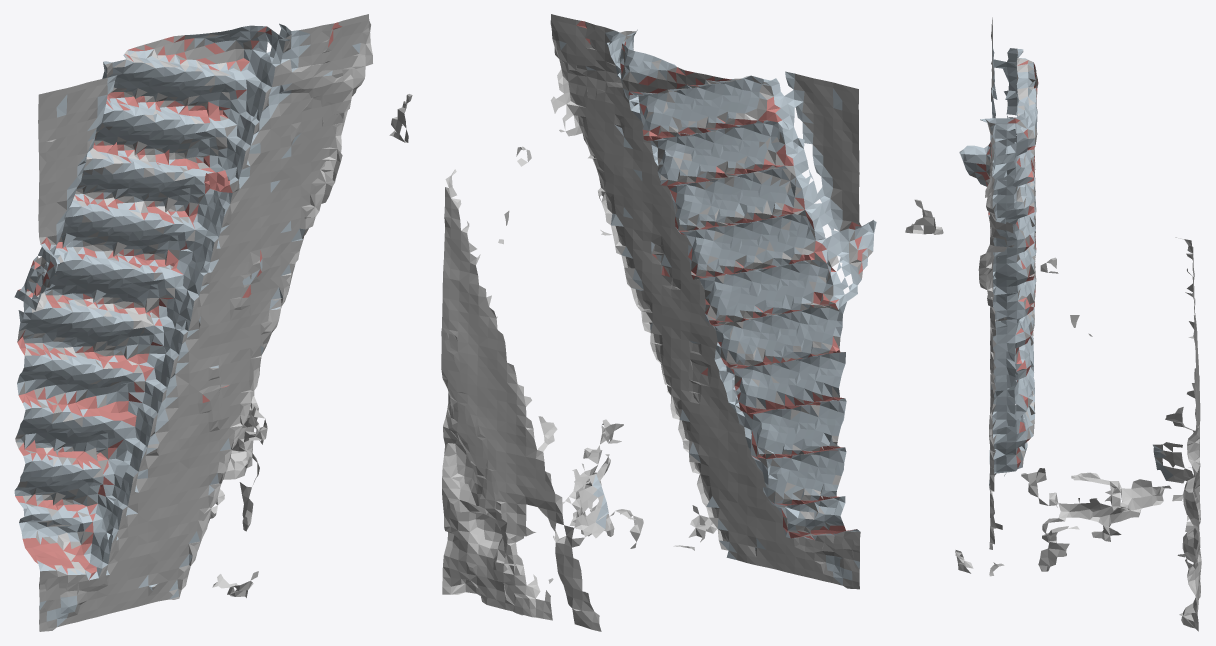
File: B173-뜬면-2__nojudge_ALS_s0__after.glb
3 renders of one model, left to right at view 1: azimuth 30°, elevation 25°; view 2: azimuth 150°, elevation 25°; view 3: azimuth 270°, elevation 25°, orthographic. The views are drawn at different scales.
Bounding box in the file's own units: 26.21 × 40.45 × 22.78.
